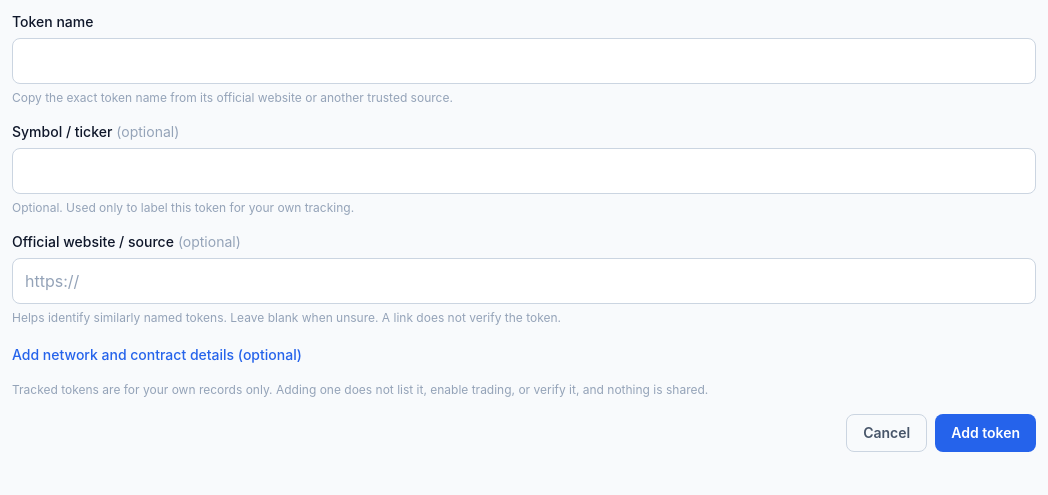
Test: CustomTokenForm › rejects a javascript: link but keeps the help text
The width and height of the screenshot is (1048, 495).
Type "X" into the field labelled "Token name" at (524, 61), box [12,38,1036,84]
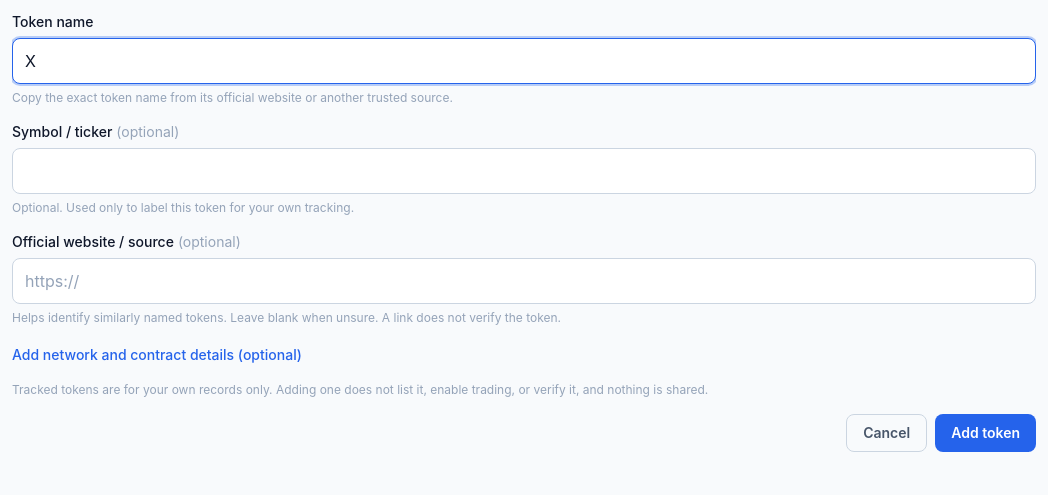
Type "javascript:alert(1)" into the field labelled "Official website / source(optional)" at (524, 281), box [12,258,1036,304]
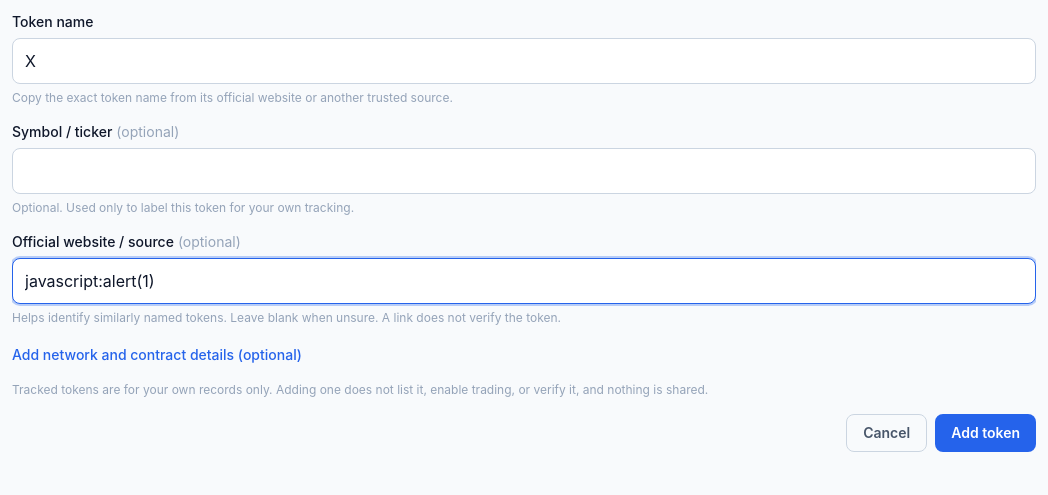
Click the button "Add token" at (986, 433), box [935,414,1036,452]
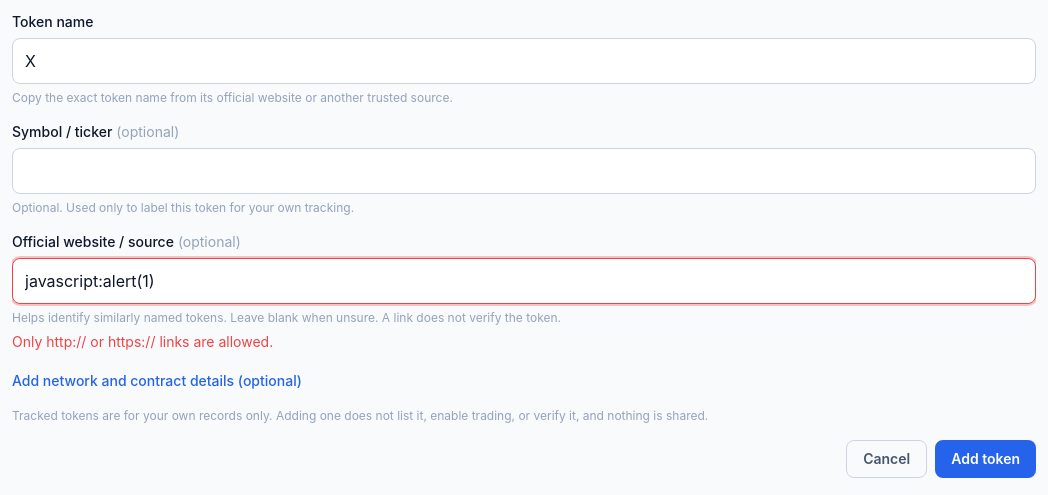
Expected: the text "Helps identify similarly named tokens. Leave blank when unsure. A link does not verify the token." is shown, [12,310,561,325]
Expected: the text "Only http:// or https:// links are allowed." is shown, [12,333,273,350]
